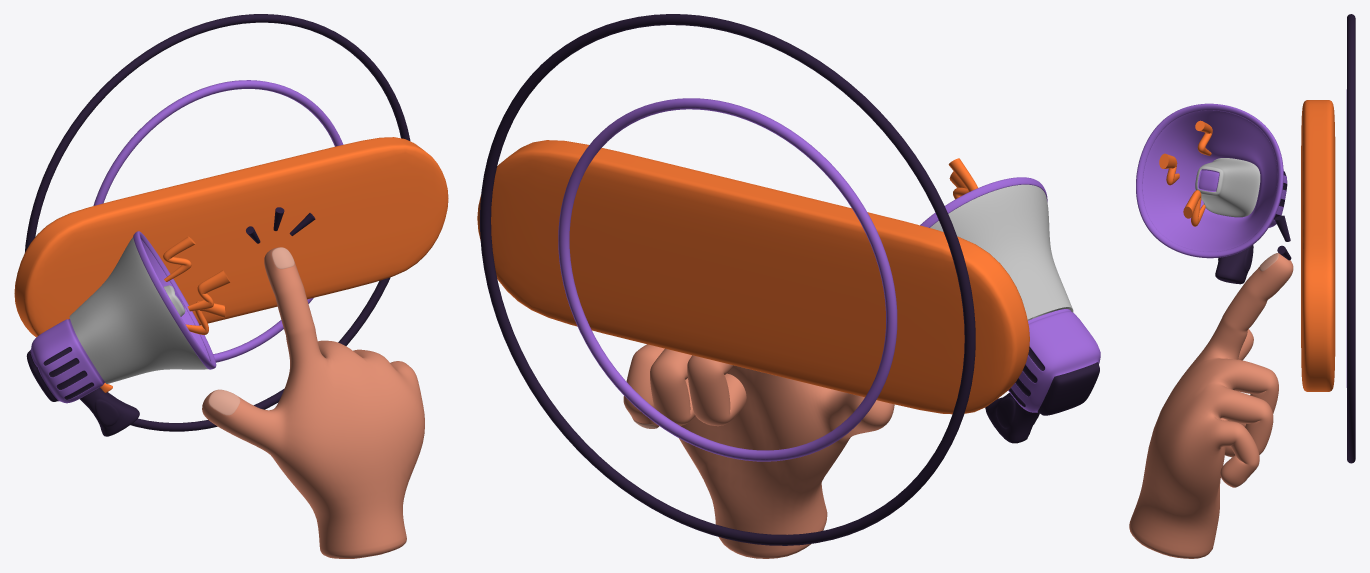
The model's file is call-to-action-3d-animated-icon-1067821228519.glb.
3 renders of one model, left to right at view 1: azimuth 30°, elevation 25°; view 2: azimuth 150°, elevation 25°; view 3: azimuth 270°, elevation 25°, orthographic. The views are drawn at different scales.
Visible parts, largest first — view 1: Cube.010, Vert.002, Cube.006, NurbsCircle.001, Cube.001, NurbsCircle, NurbsPath.001, NurbsPath; view 2: Cube.010, Vert.002, NurbsCircle.001, NurbsCircle, Cube.006, Cube.001; view 3: Vert.002, Cube.006, Cube.010, NurbsCircle.001, Cube.001, NurbsPath.002, NurbsPath.001, NurbsPath, NurbsCircle.
Boxes of the visible parts, box(x1,y1,x2,y2) form: Cube.010: box(14, 137, 448, 337); Vert.002: box(202, 247, 424, 558); Cube.006: box(69, 231, 216, 383); NurbsCircle.001: box(25, 14, 410, 431); Cube.001: box(26, 319, 139, 436); NurbsCircle: box(93, 80, 343, 362); NurbsPath.001: box(187, 270, 230, 311); NurbsPath: box(163, 236, 195, 281); Cube.010: box(477, 140, 1029, 414); Vert.002: box(623, 344, 894, 558); NurbsCircle.001: box(480, 14, 975, 545); NurbsCircle: box(558, 98, 897, 461); Cube.006: box(920, 177, 1073, 320); Cube.001: box(985, 309, 1100, 443); Vert.002: box(1129, 253, 1293, 558); Cube.006: box(1136, 103, 1283, 258); Cube.010: box(1301, 100, 1335, 391); NurbsCircle.001: box(1347, 14, 1355, 463); Cube.001: box(1215, 171, 1287, 284); NurbsPath.002: box(1183, 190, 1205, 226); NurbsPath.001: box(1159, 153, 1179, 185); NurbsPath: box(1195, 120, 1212, 155); NurbsCircle: box(1346, 89, 1346, 387).
Bounding box in the file's own units: 1.64 × 1.71 × 0.7191.
